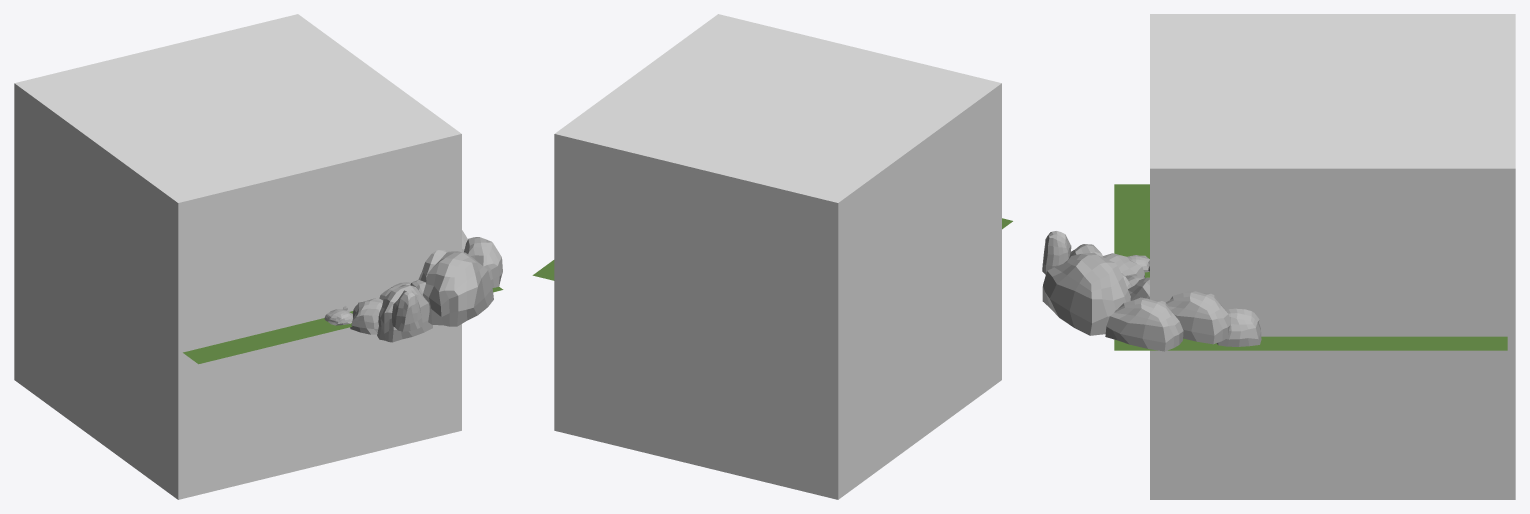
3 renders of one model, left to right at view 1: azimuth 30°, elevation 25°; view 2: azimuth 150°, elevation 25°; view 3: azimuth 270°, elevation 25°, orthographic. The views are drawn at different scales.
Parts seen in each view (by area): view 1: Cube.007, Cube.110, Plane.003, Cube.046, Cube.106, Cube.108, Cube.112, Cube.098; view 2: Cube.007; view 3: Cube.007, Plane.003, Cube.110, Cube.108, Cube.046, Cube.105, Cube.095, Cube.112, Cube.044, Cube.098.
Part boxes in pixels (left/top/right/bottom): Cube.007: left=14, top=14, right=461, bottom=499; Cube.110: left=423, top=251, right=493, bottom=326; Plane.003: left=183, top=287, right=503, bottom=364; Cube.046: left=426, top=252, right=492, bottom=326; Cube.106: left=377, top=284, right=432, bottom=342; Cube.108: left=464, top=237, right=502, bottom=287; Cube.112: left=392, top=290, right=422, bottom=331; Cube.098: left=350, top=297, right=382, bottom=334; Cube.007: left=554, top=14, right=1001, bottom=499; Cube.007: left=1150, top=14, right=1515, bottom=499; Plane.003: left=1114, top=184, right=1507, bottom=350; Cube.110: left=1043, top=252, right=1130, bottom=335; Cube.108: left=1105, top=297, right=1183, bottom=351; Cube.046: left=1042, top=252, right=1130, bottom=334; Cube.105: left=1166, top=291, right=1230, bottom=344; Cube.095: left=1216, top=308, right=1261, bottom=346; Cube.112: left=1042, top=231, right=1071, bottom=274; Cube.044: left=1105, top=300, right=1174, bottom=351; Cube.098: left=1103, top=253, right=1144, bottom=277.
Size of the model in its own units: 98.64 by 86.3 by 112.
